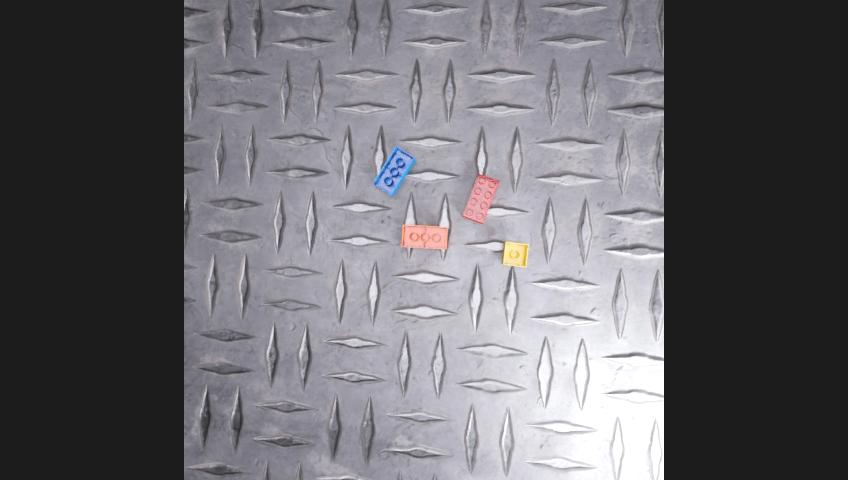2x2_yellow: (501, 240, 529, 267)
4x2_blue: (372, 147, 415, 196)
4x2_orange: (401, 223, 448, 249)
4x2_red: (461, 174, 498, 223)
